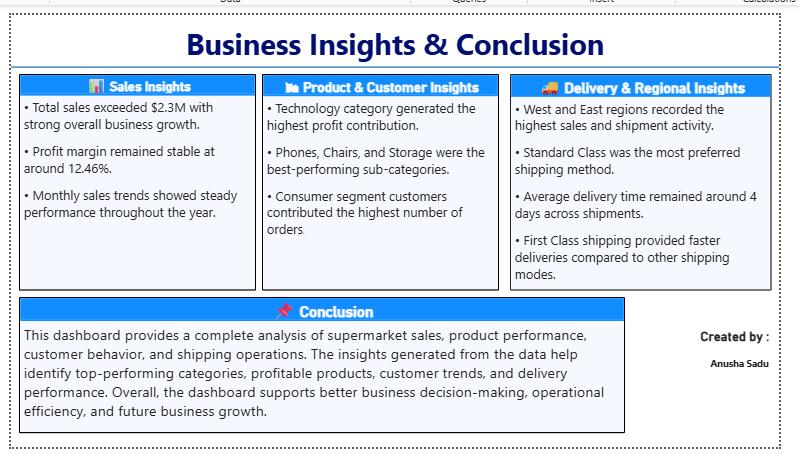

What the dashboard file says about the page in this screenshot:
{"tool":"powerbi","page":{"name":"Business Insights & Conclusion","canvas":[1280,720],"ordinal":3},"visuals":[{"type":"textbox","box":[0,0,1280.5,87.8],"z":0},{"type":"textbox","box":[0,10,1280.5,87.8],"z":1000},{"type":"shape","box":[0,10.2,1280.5,153.7],"z":2000},{"type":"textbox","title":"📊 Sales Insights","box":[13.2,98,395.1,361.5],"z":3000},{"type":"textbox","title":"🛍 Product & Customer Insights","box":[418.5,98,395,361.5],"z":4000},{"type":"textbox","title":"🚚 Delivery & Regional Insights","box":[831.2,98,436.1,361.5],"z":5000},{"type":"textbox","title":"📌 Conclusion","box":[13.2,469.8,1009.8,226.8],"z":6000},{"type":"textbox","title":"Created by : ","box":[1049.3,523.9,218,184.4],"z":6001}]}

Visuals, with their boxes on the page's 1280x720 design canvas (x1, y1, x2, y2). These are canvas units, not pixel positions in the 799x458 screenshot, which may show the page scaled, cropped or inside an application window:
textbox: 0:0:1280:88
textbox: 0:10:1280:98
shape: 0:10:1280:164
"📊 Sales Insights" textbox: 13:98:408:460
"🛍 Product & Customer Insights" textbox: 418:98:814:460
"🚚 Delivery & Regional Insights" textbox: 831:98:1267:460
"📌 Conclusion" textbox: 13:470:1023:697
"Created by : " textbox: 1049:524:1267:708
